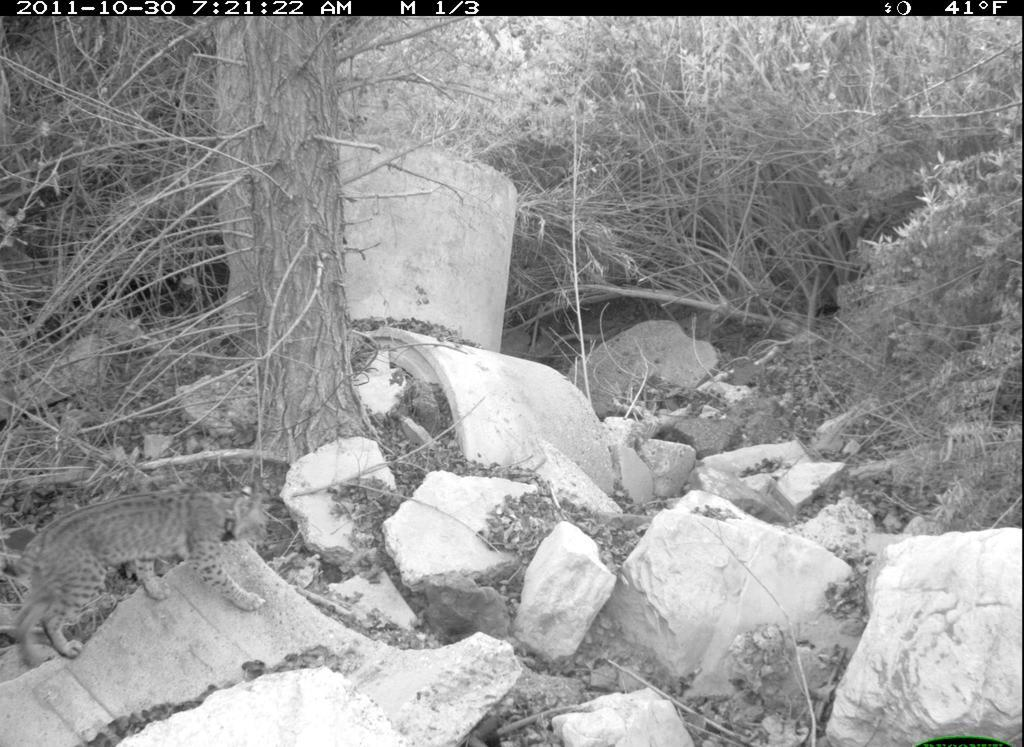bobcat: (12, 482, 274, 670)
